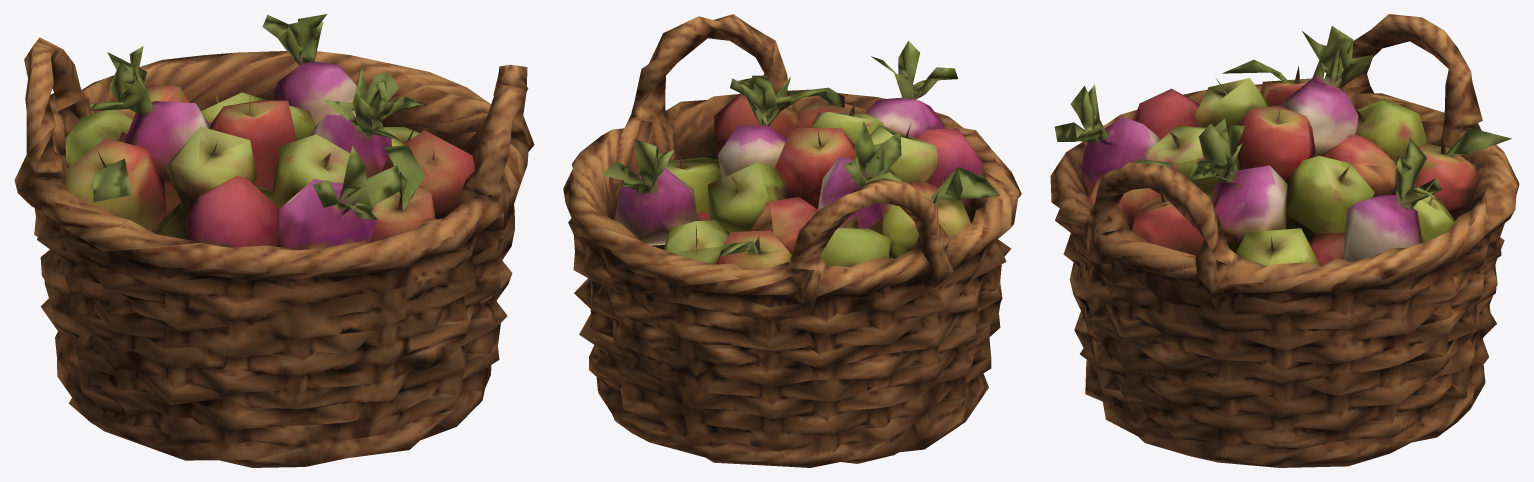
File: ProduceBasket.gltf
3 renders of one model, left to right at view 1: azimuth 30°, elevation 25°; view 2: azimuth 150°, elevation 25°; view 3: azimuth 270°, elevation 25°, orthographic. The views are drawn at different scales.
Visible parts, largest first — view 1: lo; view 2: lo; view 3: lo.
Part boxes in pixels (left/top/right/bottom): lo: left=14, top=14, right=534, bottom=467; lo: left=563, top=14, right=1021, bottom=467; lo: left=1050, top=14, right=1519, bottom=467.
Bounding box in the file's own units: 0.7986 × 0.5937 × 0.7954.
1 material, 1 textured.
